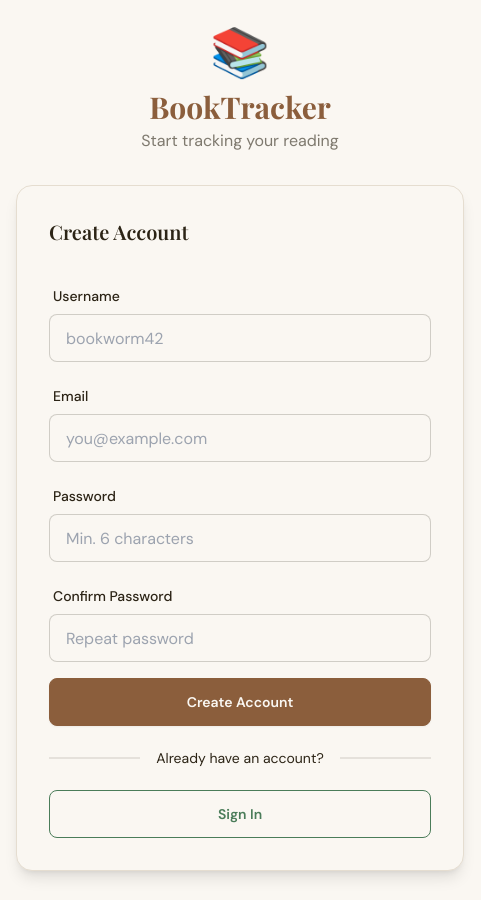
Test case: RegisterPage Component Unit Tests › API Error Handling › should display server error when API returns 409 duplicate email
This screenshot has width=481, height=900.
Type "selma" into the field labelled "Username" at (240, 338), box [49,314,431,362]
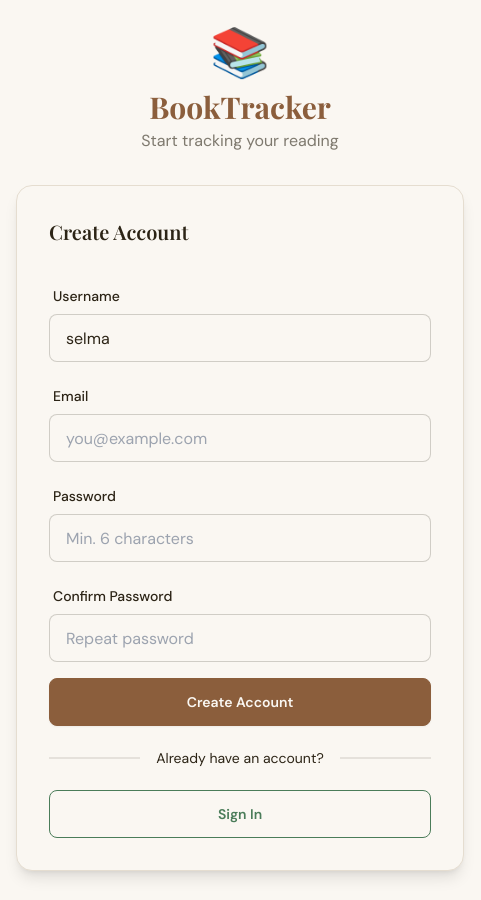
Type "taken@burch.edu" into the field named "Email Address" at (240, 438), box [49,414,431,462]
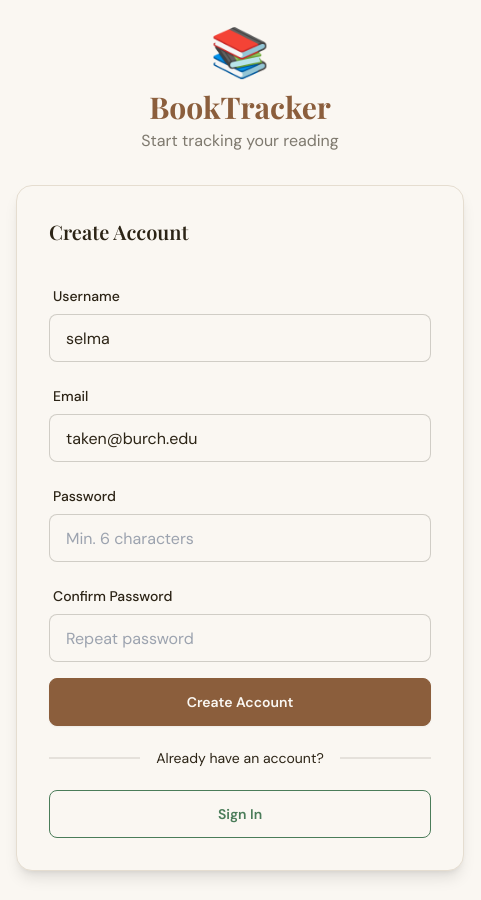
Type "secure123" into the password field labelled "Password" at (240, 538), box [49,514,431,562]
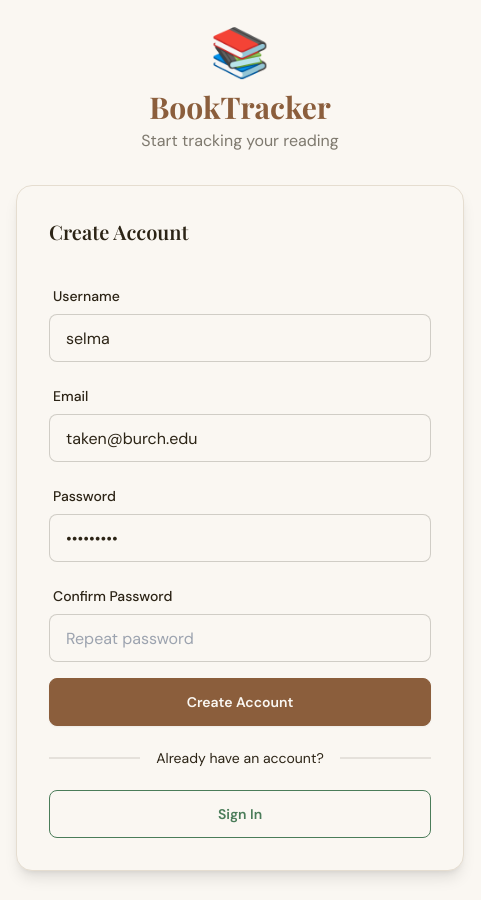
Type "secure123" into the password field labelled "Confirm Password" at (240, 638), box [49,614,431,662]
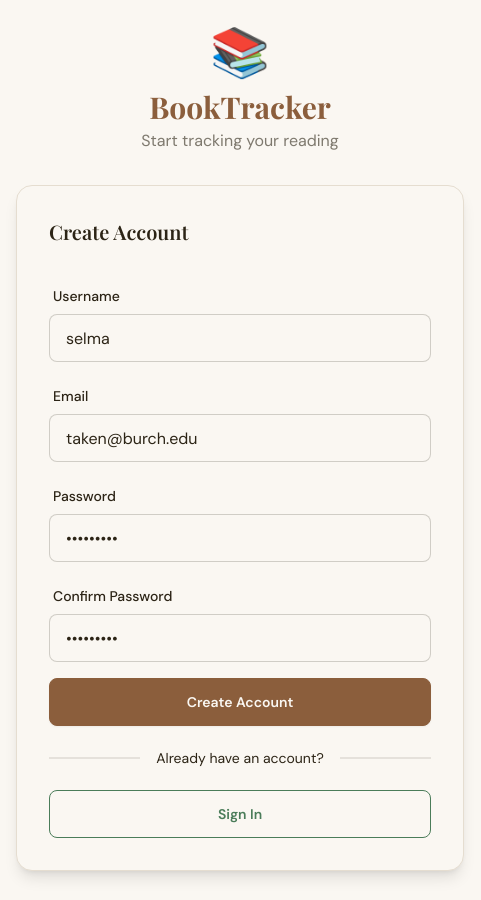
Click the button "Create Account" at (240, 702), box [49,678,431,726]
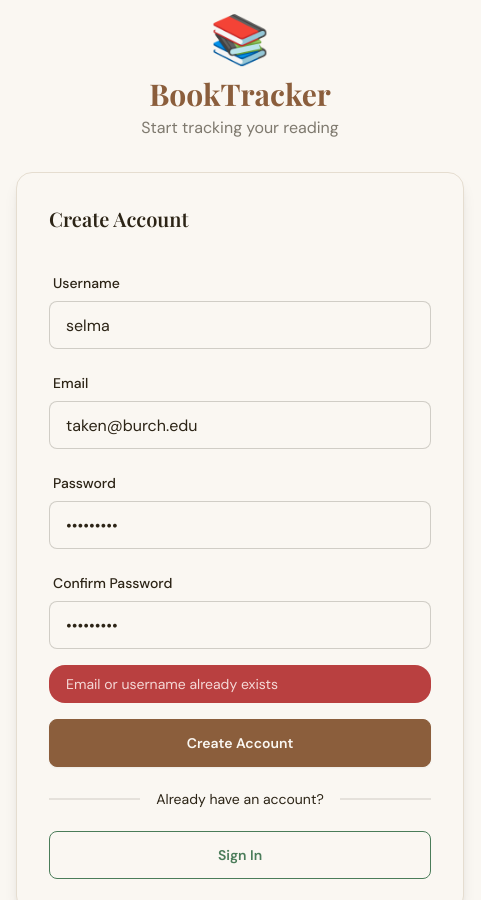
Expected: the message reads "Email or username already exists", [66,675,278,693]
